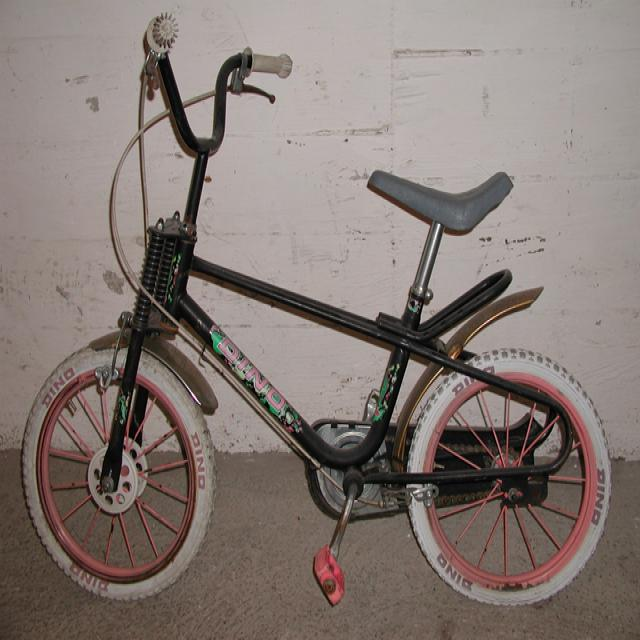bicycle: (20, 11, 612, 608)
